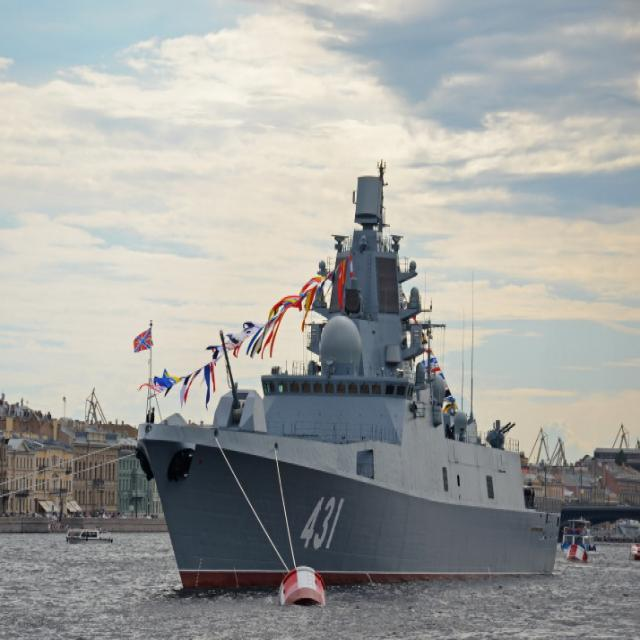Fragata: (127, 148, 572, 602)
